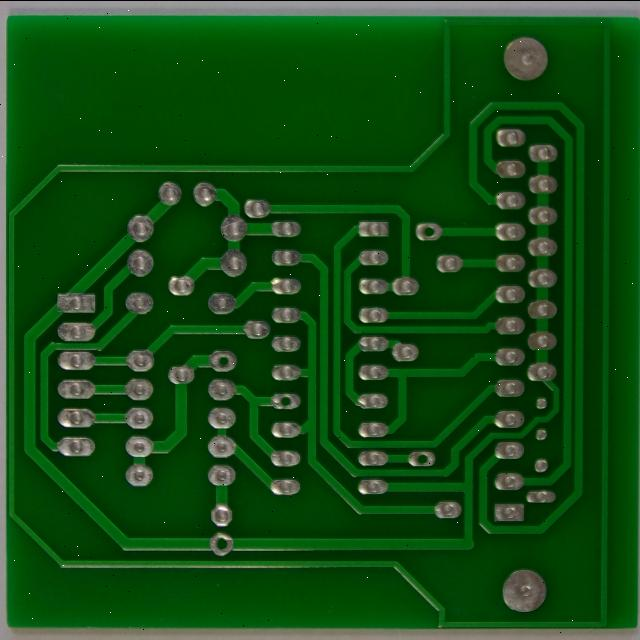missing_hole: (243, 301, 276, 332), (244, 514, 271, 545), (485, 152, 512, 182), (320, 351, 345, 376), (478, 418, 503, 442)
